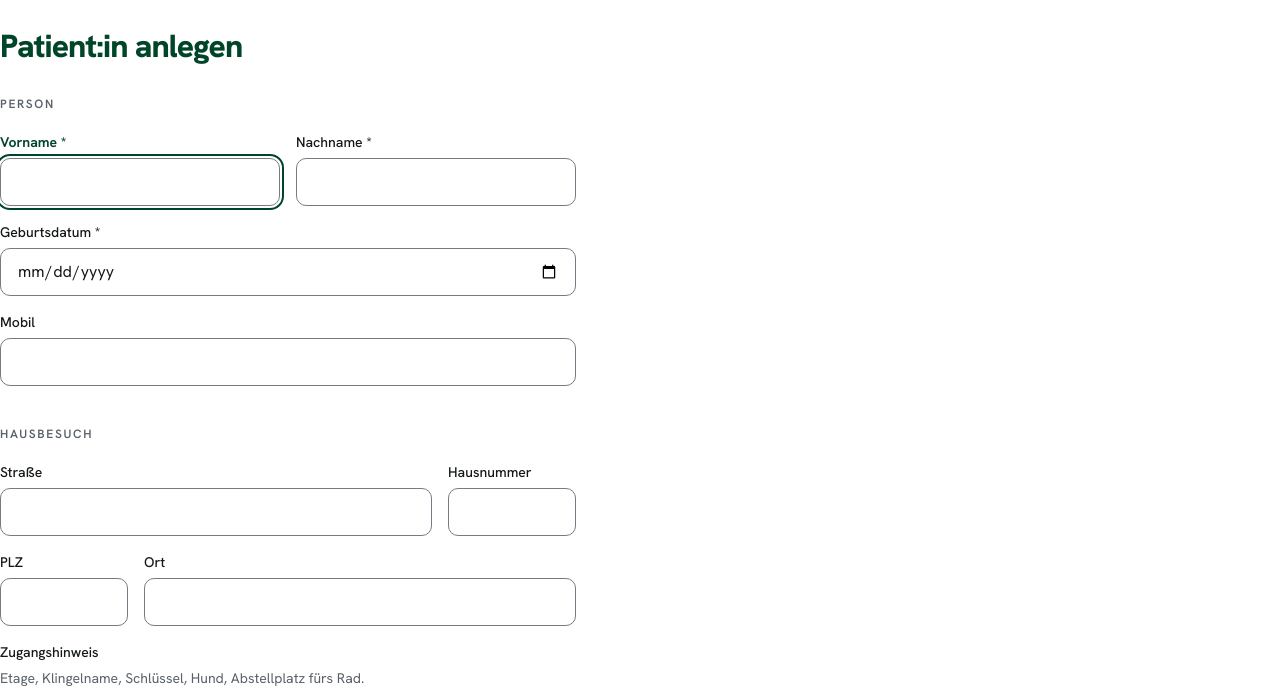
Test: NewPatientPage › zeigt bei einem Serverfehler eine verstaendliche Meldung ohne Details
In the field labelled "Vorname *": {"x": 140, "y": 182} [0,158,280,206], type "  Nora  "
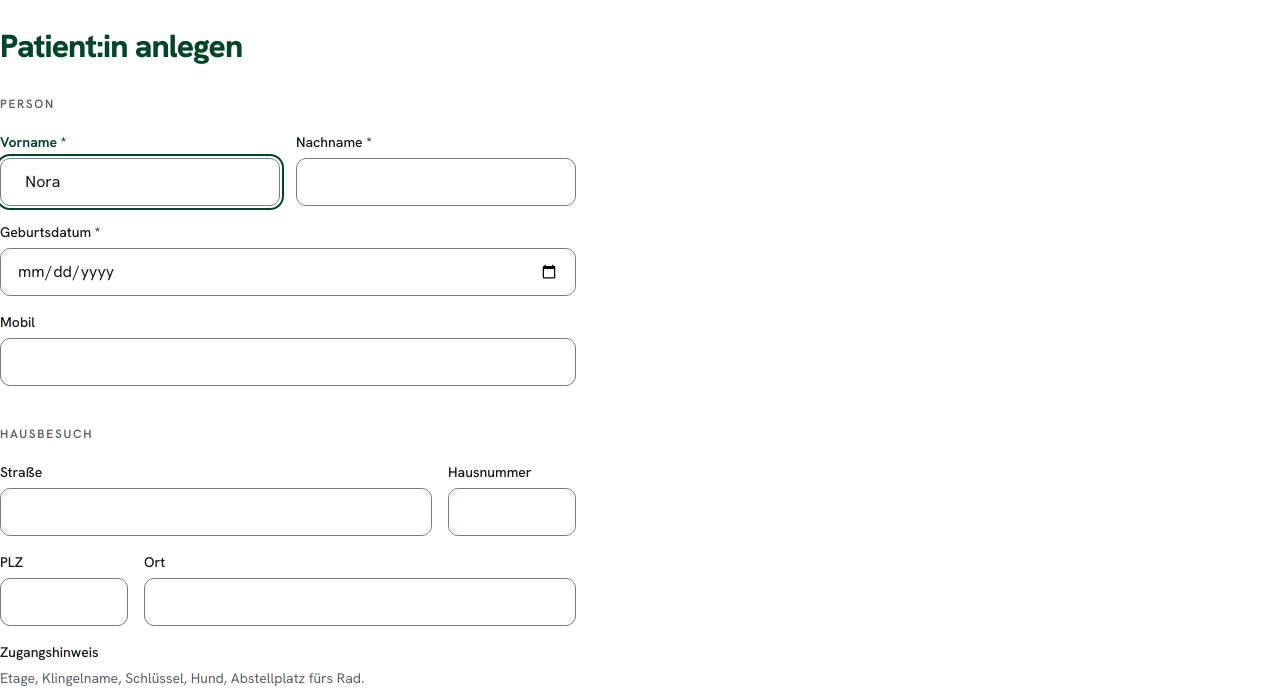
In the field labelled "Nachname *": {"x": 436, "y": 182} [296,158,576,206], type "Neuzugang"
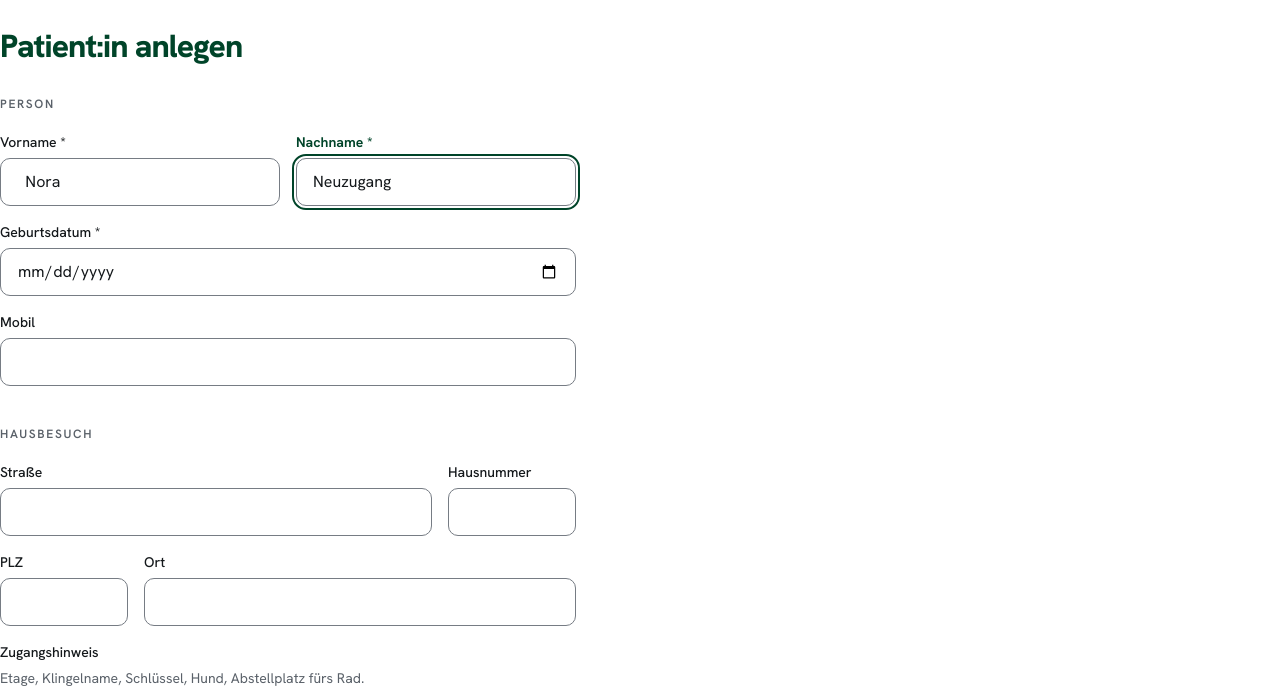
In the date field labelled "Geburtsdatum *": {"x": 288, "y": 272} [0,248,576,296], type "1980-03-14"
(page scrolled)
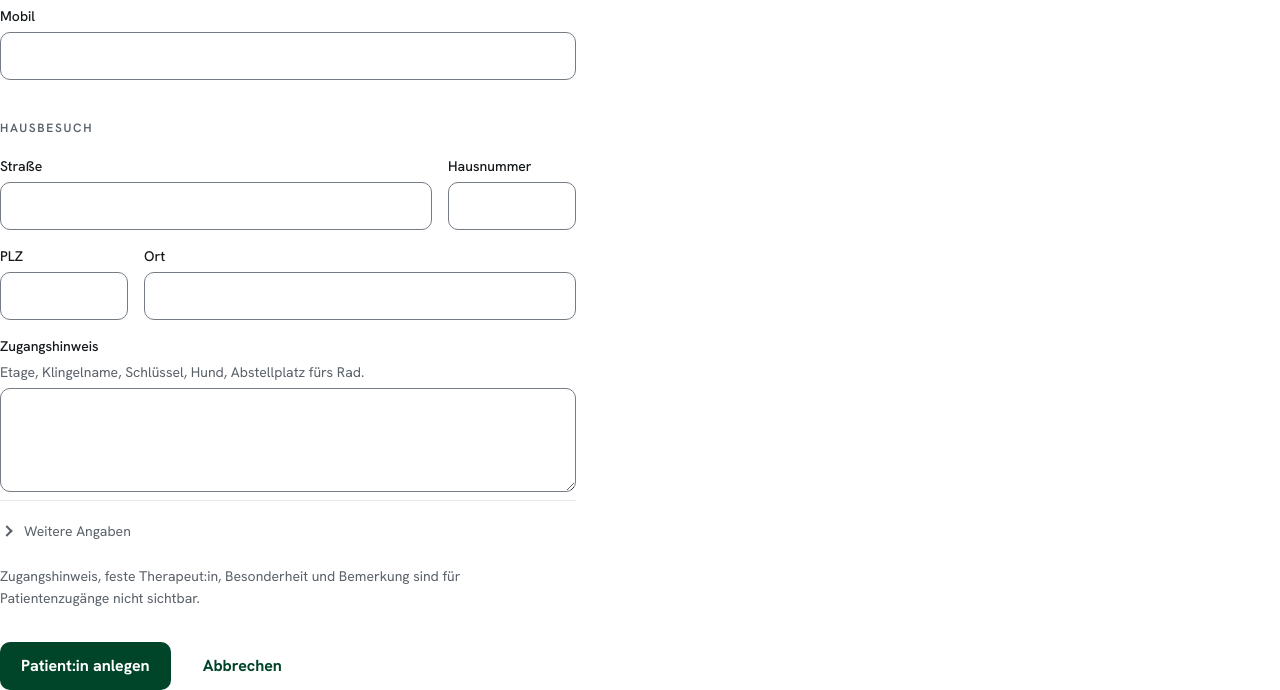
Click the button "Patient:in anlegen": {"x": 85, "y": 666} [0,642,171,689]
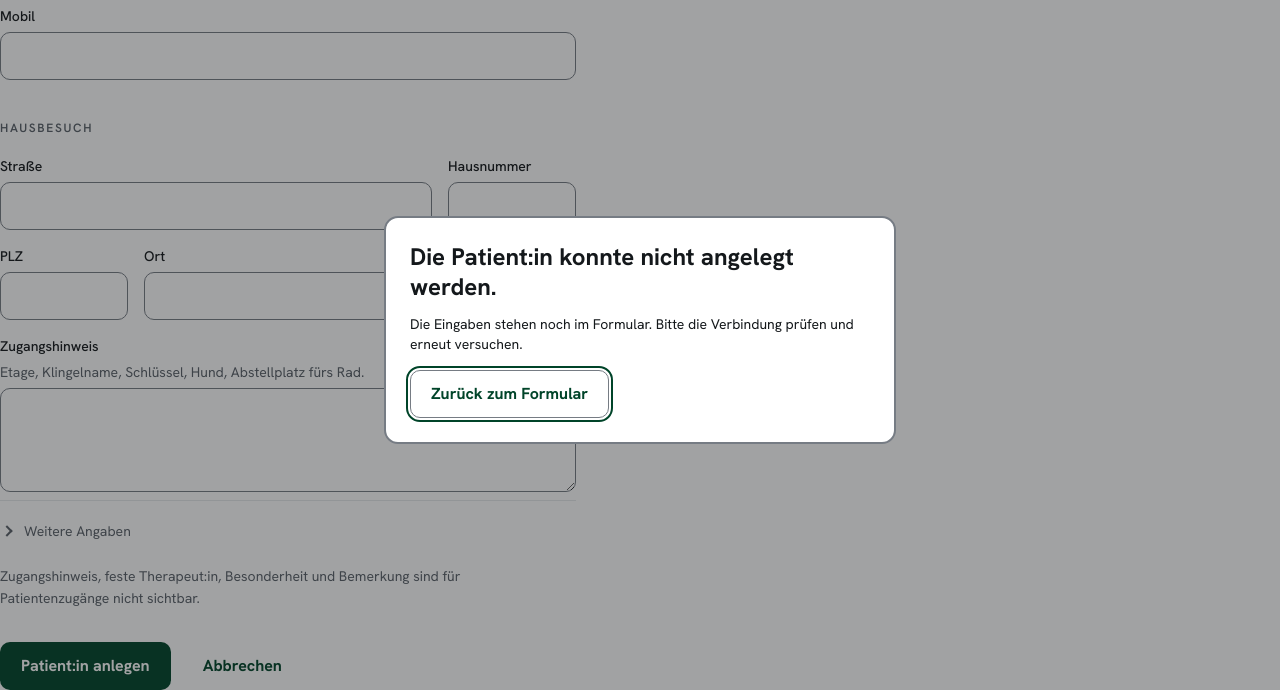
Expected: the message shows "Die Eingaben stehen noch im Formular.", [410,315,854,353]
Expected: the message shows "Bitte die Verbindung prüfen", [410,315,854,353]
Click the button "Zurück zum Formular": {"x": 510, "y": 394} [410,370,609,418]
(page scrolled)
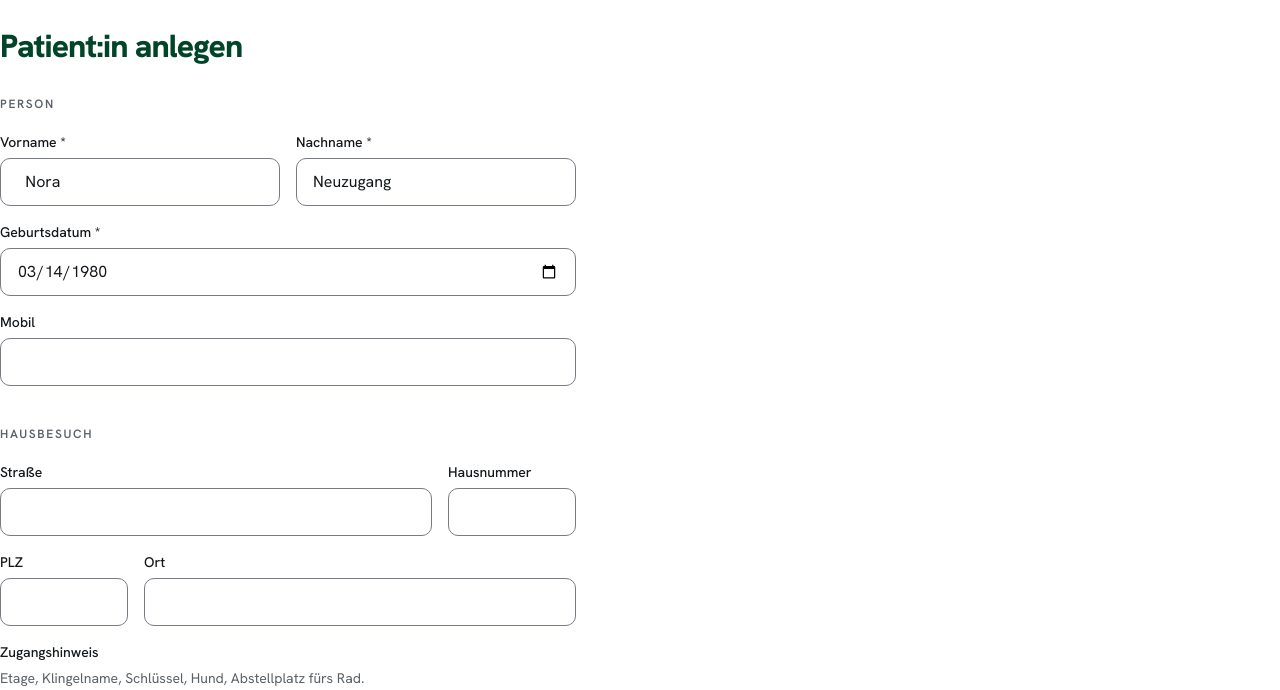
Expected: the dialog is gone
